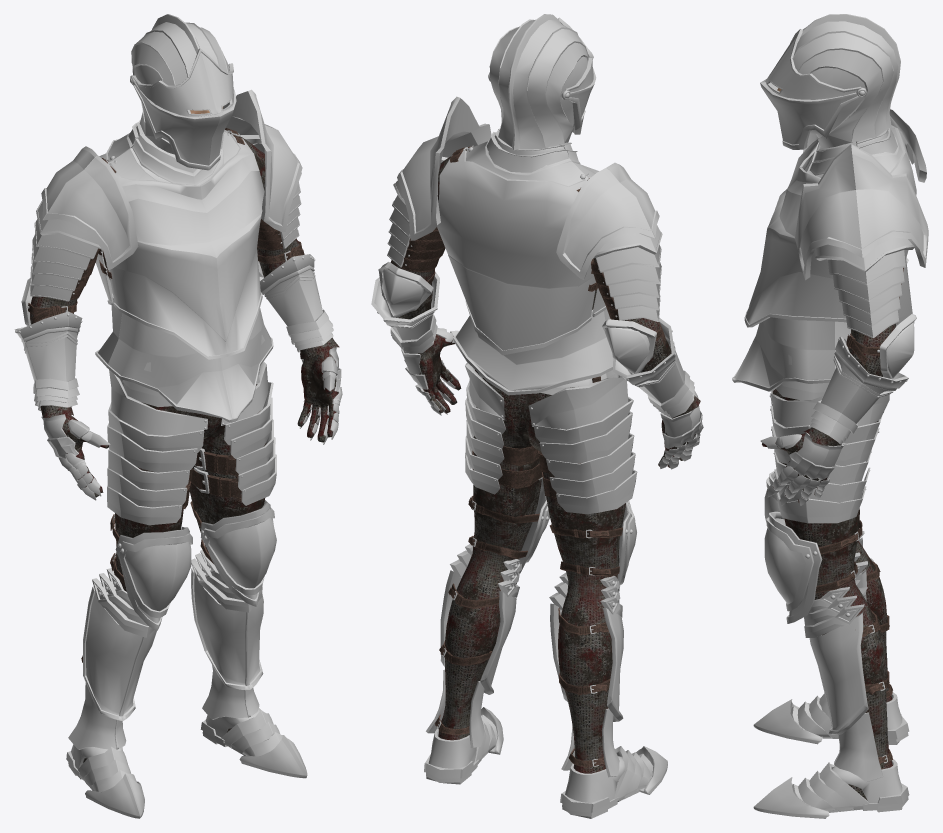
3 views of the same model, side by side, from view 1: azimuth 30°, elevation 25°; view 2: azimuth 150°, elevation 25°; view 3: azimuth 270°, elevation 25° (orthographic).
Parts seen in each view (by area): view 1: Plate_low, PlateTourso_low, Helmet_low, ChainMail_low, LeftShoulder_low, Leather_low, RightShoulder_low; view 2: Plate_low, ChainMail_low, PlateTourso_low, Helmet_low, Leather_low, LeftShoulder_low, RightShoulder_low; view 3: Plate_low, Helmet_low, RightShoulder_low, PlateTourso_low, ChainMail_low, Leather_low, LeftShoulder_low.
Part boxes in pixels (left/top/right/bottom): Plate_low: left=14, top=120, right=342, bottom=818; PlateTourso_low: left=95, top=130, right=264, bottom=359; Helmet_low: left=131, top=14, right=236, bottom=170; ChainMail_low: left=30, top=132, right=339, bottom=762; LeftShoulder_low: left=41, top=146, right=138, bottom=270; Leather_low: left=28, top=128, right=304, bottom=662; RightShoulder_low: left=226, top=89, right=302, bottom=231; Plate_low: left=371, top=128, right=703, bottom=818; ChainMail_low: left=390, top=149, right=700, bottom=781; PlateTourso_low: left=437, top=148, right=606, bottom=355; Helmet_low: left=489, top=14, right=596, bottom=150; Leather_low: left=400, top=146, right=665, bottom=767; LeftShoulder_low: left=556, top=162, right=659, bottom=279; RightShoulder_low: left=397, top=96, right=491, bottom=240; Plate_low: left=732, top=125, right=916, bottom=818; Helmet_low: left=760, top=14, right=900, bottom=149; RightShoulder_low: left=795, top=144, right=928, bottom=280; PlateTourso_low: left=744, top=128, right=916, bottom=327; ChainMail_low: left=762, top=141, right=895, bottom=800; Leather_low: left=815, top=267, right=903, bottom=764; LeftShoulder_low: left=803, top=109, right=926, bottom=182.
Size of the model in its own units: 0.829 by 2 by 0.4714.
